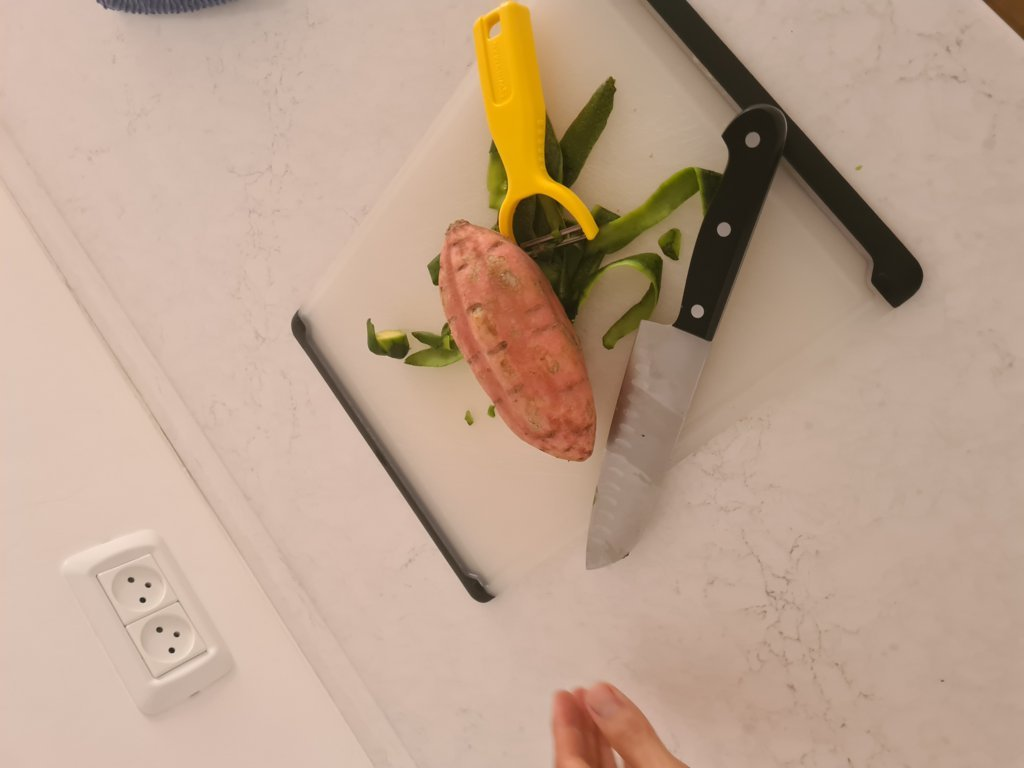Sweet Potatow: (440, 211, 599, 458)
